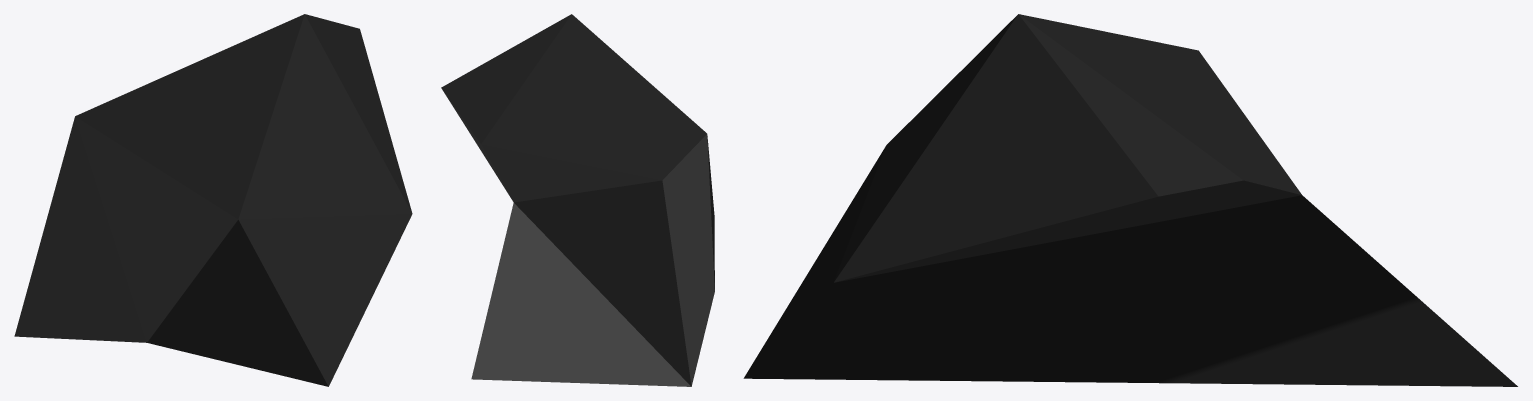
Rendered from rock_2_piece.fbx.
3 views of the same model, side by side, from view 1: azimuth 30°, elevation 25°; view 2: azimuth 150°, elevation 25°; view 3: azimuth 270°, elevation 25° (orthographic). The views are drawn at different scales.
Parts seen in each view (by area): view 1: Icosphere; view 2: Icosphere; view 3: Icosphere.
Part boxes in pixels (box(x1,y1,x2,y2)): Icosphere: box(14, 14, 412, 386); Icosphere: box(441, 14, 714, 386); Icosphere: box(743, 14, 1517, 386).
Bounding box in the file's own units: 56.96 × 55.67 × 82.89.
